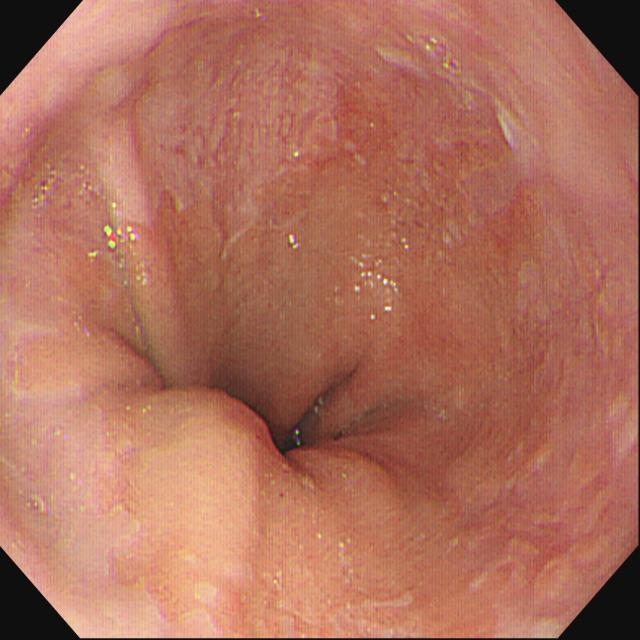I: (83, 132, 474, 590)
U: (99, 223, 138, 259)
